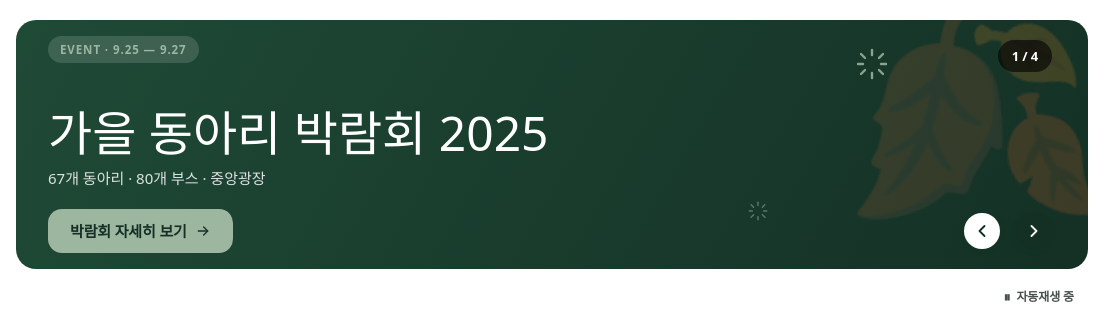
Test case: BannerCarouselClient — 오버레이 컨트롤 › 위치 표시를 눌러도 다음으로 넘어간다 — 화살표 없는 모바일의 단일 포인터 대안
Click the button with test id "banner-pager": (1025, 56) [998, 40, 1052, 72]
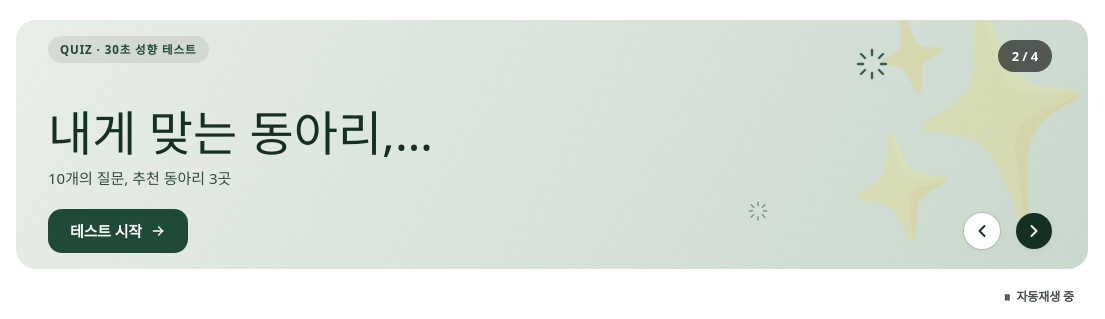
Now the button with test id "banner-pager" reads "2 / 4", box [998, 40, 1052, 72]
